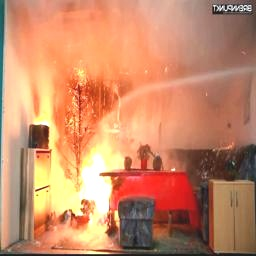fire: (63, 147, 117, 210)
